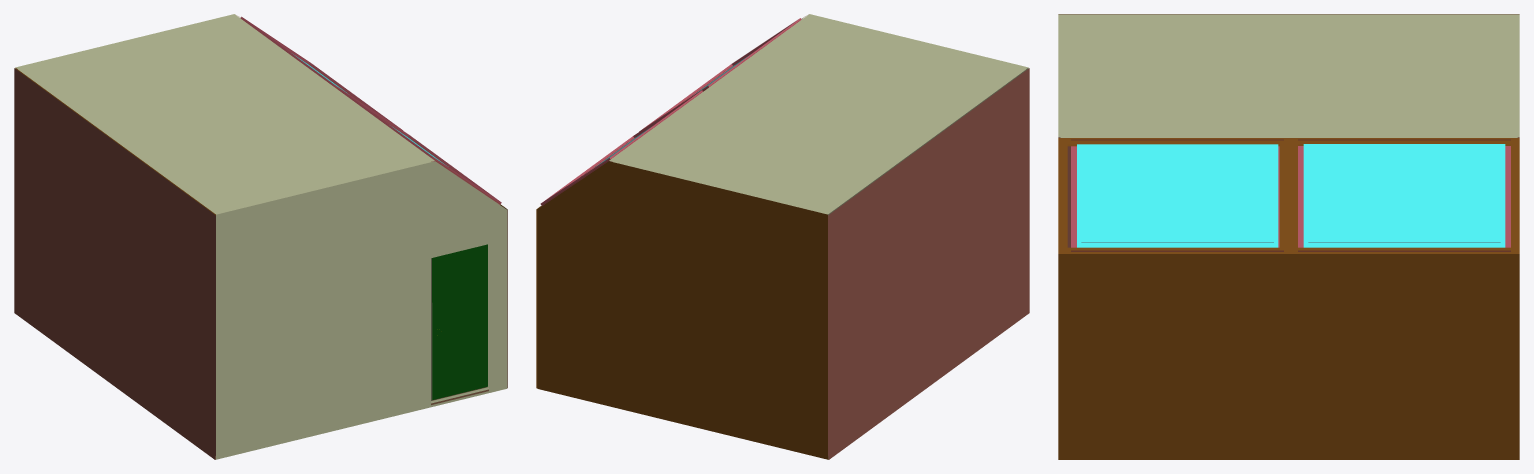
The model's file is room4.fbx.
3 renders of one model, left to right at view 1: azimuth 30°, elevation 25°; view 2: azimuth 150°, elevation 25°; view 3: azimuth 270°, elevation 25°, orthographic. The views are drawn at different scales.
Visible parts, largest first — view 1: left_wall.002, back_wall.001, roof, door, windowFrame1, windowFrame2; view 2: right_wall, back_wall.001, roof, windowFrame2, windowFrame1; view 3: front_wall, roof, windowglass2, windowglass1, windowFrame2, windowFrame1, back_wall.001.
Part boxes in pixels (left/top/right/bottom): left_wall.002: left=216, top=161, right=506, bottom=459; back_wall.001: left=14, top=68, right=215, bottom=459; roof: left=15, top=14, right=434, bottom=214; door: left=432, top=244, right=487, bottom=399; windowFrame1: left=339, top=89, right=501, bottom=204; windowFrame2: left=240, top=16, right=402, bottom=130; right_wall: left=537, top=161, right=827, bottom=459; back_wall.001: left=828, top=68, right=1029, bottom=459; roof: left=609, top=14, right=1028, bottom=214; windowFrame2: left=540, top=90, right=702, bottom=205; windowFrame1: left=639, top=18, right=801, bottom=131; front_wall: left=1058, top=138, right=1519, bottom=459; roof: left=1058, top=14, right=1519, bottom=137; windowglass2: left=1303, top=144, right=1505, bottom=247; windowglass1: left=1077, top=144, right=1278, bottom=247; windowFrame2: left=1298, top=139, right=1510, bottom=251; windowFrame1: left=1071, top=139, right=1283, bottom=251; back_wall.001: left=1058, top=14, right=1519, bottom=247.
Bounding box in the file's own units: 401 × 322 × 477.
